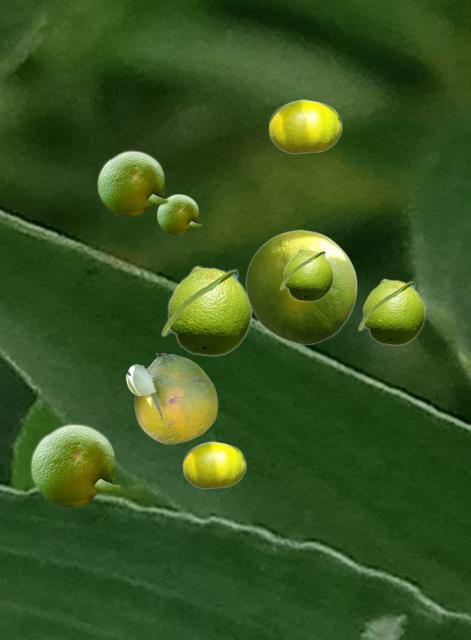dalandan: (245, 229, 356, 344), (160, 265, 252, 356), (125, 353, 217, 443), (29, 422, 121, 507), (96, 149, 169, 216), (357, 278, 425, 345), (268, 99, 341, 153), (182, 441, 245, 488), (279, 248, 333, 301), (156, 193, 201, 234)
